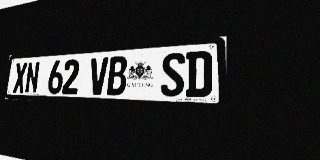2: (62, 59, 80, 94)
6: (47, 60, 64, 94)
B: (107, 56, 128, 95)
D: (185, 50, 212, 97)
N: (25, 61, 40, 93)
S: (160, 52, 185, 97)
V: (89, 57, 108, 95)
X: (13, 62, 27, 93)
